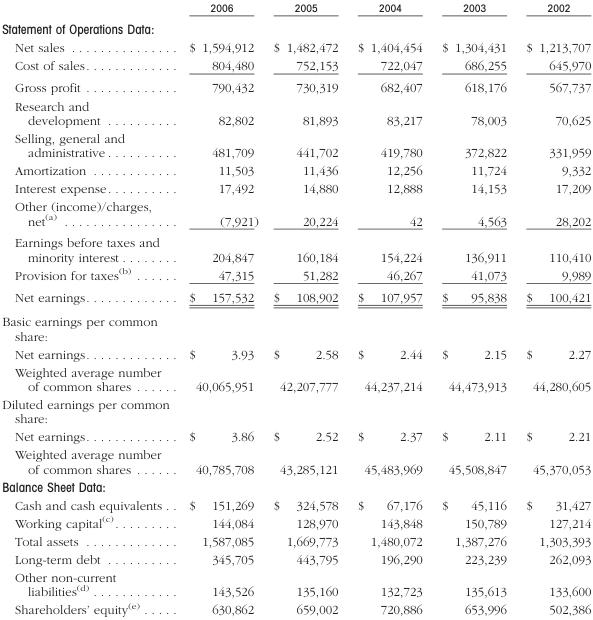table: (1, 1, 590, 616)
table column: (1, 1, 174, 616), (174, 1, 265, 616), (347, 1, 431, 616), (431, 1, 515, 616), (265, 1, 347, 616), (515, 1, 590, 616)
table column header: (1, 1, 590, 17)
table projected row header: (1, 309, 590, 344), (1, 395, 590, 427), (1, 17, 590, 38), (1, 476, 590, 495)
table row: (1, 309, 590, 344), (1, 197, 590, 231), (1, 128, 590, 161), (1, 231, 590, 264), (1, 362, 590, 395), (1, 96, 590, 128), (1, 395, 590, 427), (1, 445, 590, 476), (1, 568, 590, 599), (1, 285, 590, 309), (1, 17, 590, 38), (1, 264, 590, 285), (1, 56, 590, 76), (1, 76, 590, 96), (1, 512, 590, 532), (1, 476, 590, 495), (1, 38, 590, 56), (1, 161, 590, 179), (1, 179, 590, 197), (1, 344, 590, 362), (1, 427, 590, 445), (1, 532, 590, 550), (1, 550, 590, 568), (1, 495, 590, 512), (1, 599, 590, 616), (1, 1, 590, 17)
